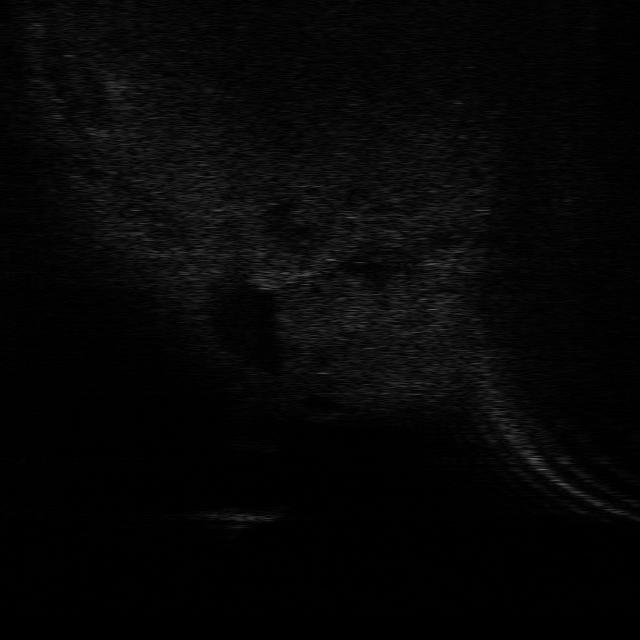cube: (192, 504, 288, 526)
